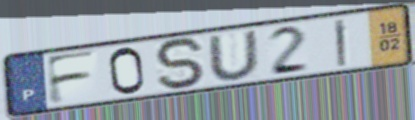0: (107, 45, 146, 96)
2: (263, 25, 311, 78)
F: (43, 48, 100, 107)
I: (332, 16, 349, 69)
S: (152, 36, 210, 92)
U: (205, 28, 263, 82)
